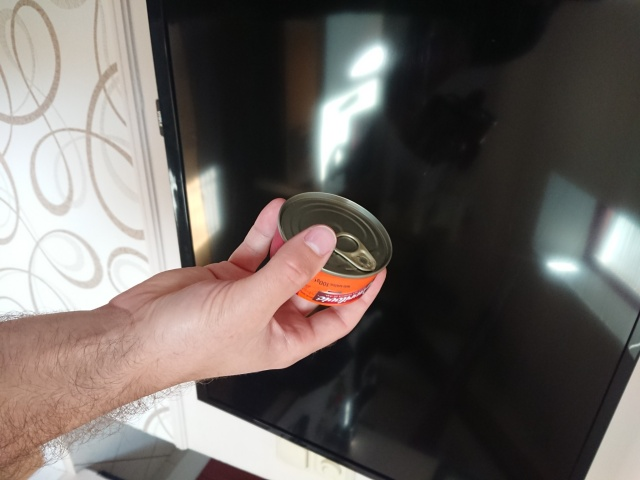Gavrilovic Pork Liver Pate 100g: (267, 188, 395, 309)
